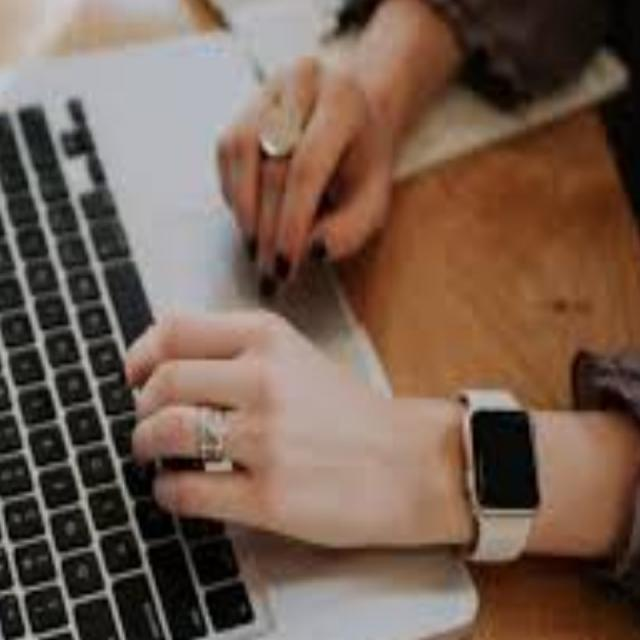Watch: (455, 384, 545, 568)
